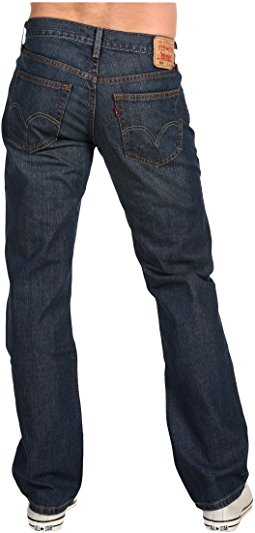jeans: (6, 18, 252, 516)
